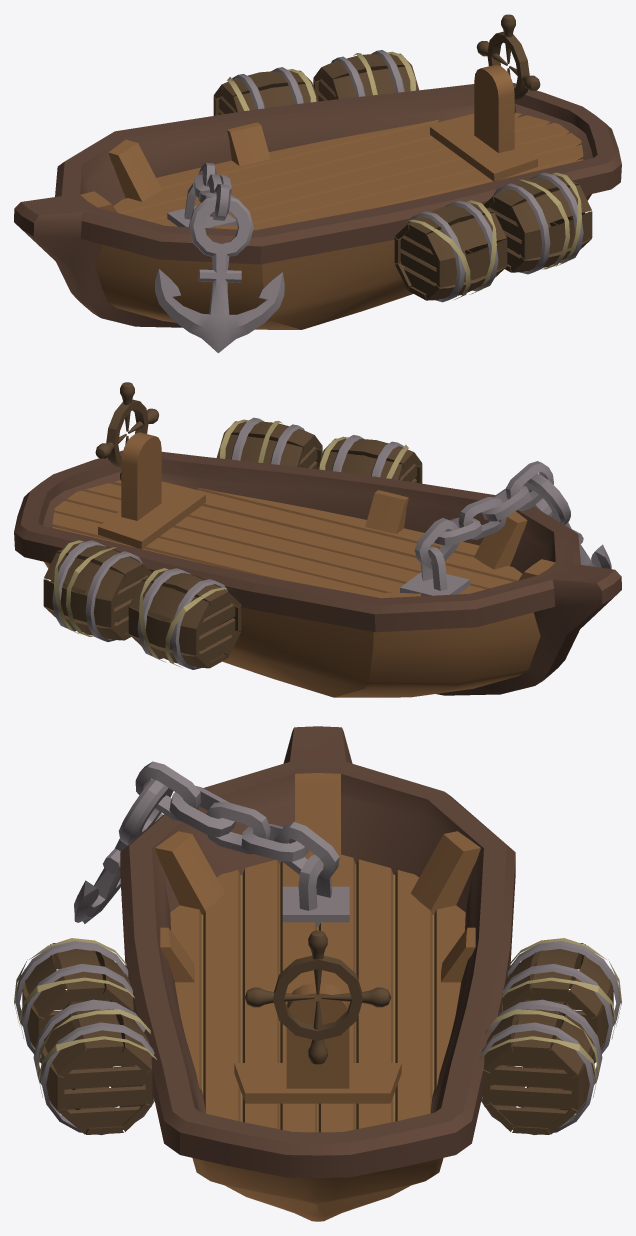
Rendered from small-ship.glb.
3 renders of one model, top to bottom at view 1: azimuth 30°, elevation 25°; view 2: azimuth 150°, elevation 25°; view 3: azimuth 270°, elevation 25°, orthographic. The views are drawn at different scales.
Visible parts, largest first — view 1: Ship_Small; view 2: Ship_Small; view 3: Ship_Small.
Boxes of the visible parts, bbox=[...] form: Ship_Small: bbox=[14, 14, 621, 353]; Ship_Small: bbox=[14, 382, 621, 697]; Ship_Small: bbox=[14, 726, 621, 1221].
Bounding box in the file's own units: 5.15 × 1.99 × 3.6.
1 material, 1 textured.
